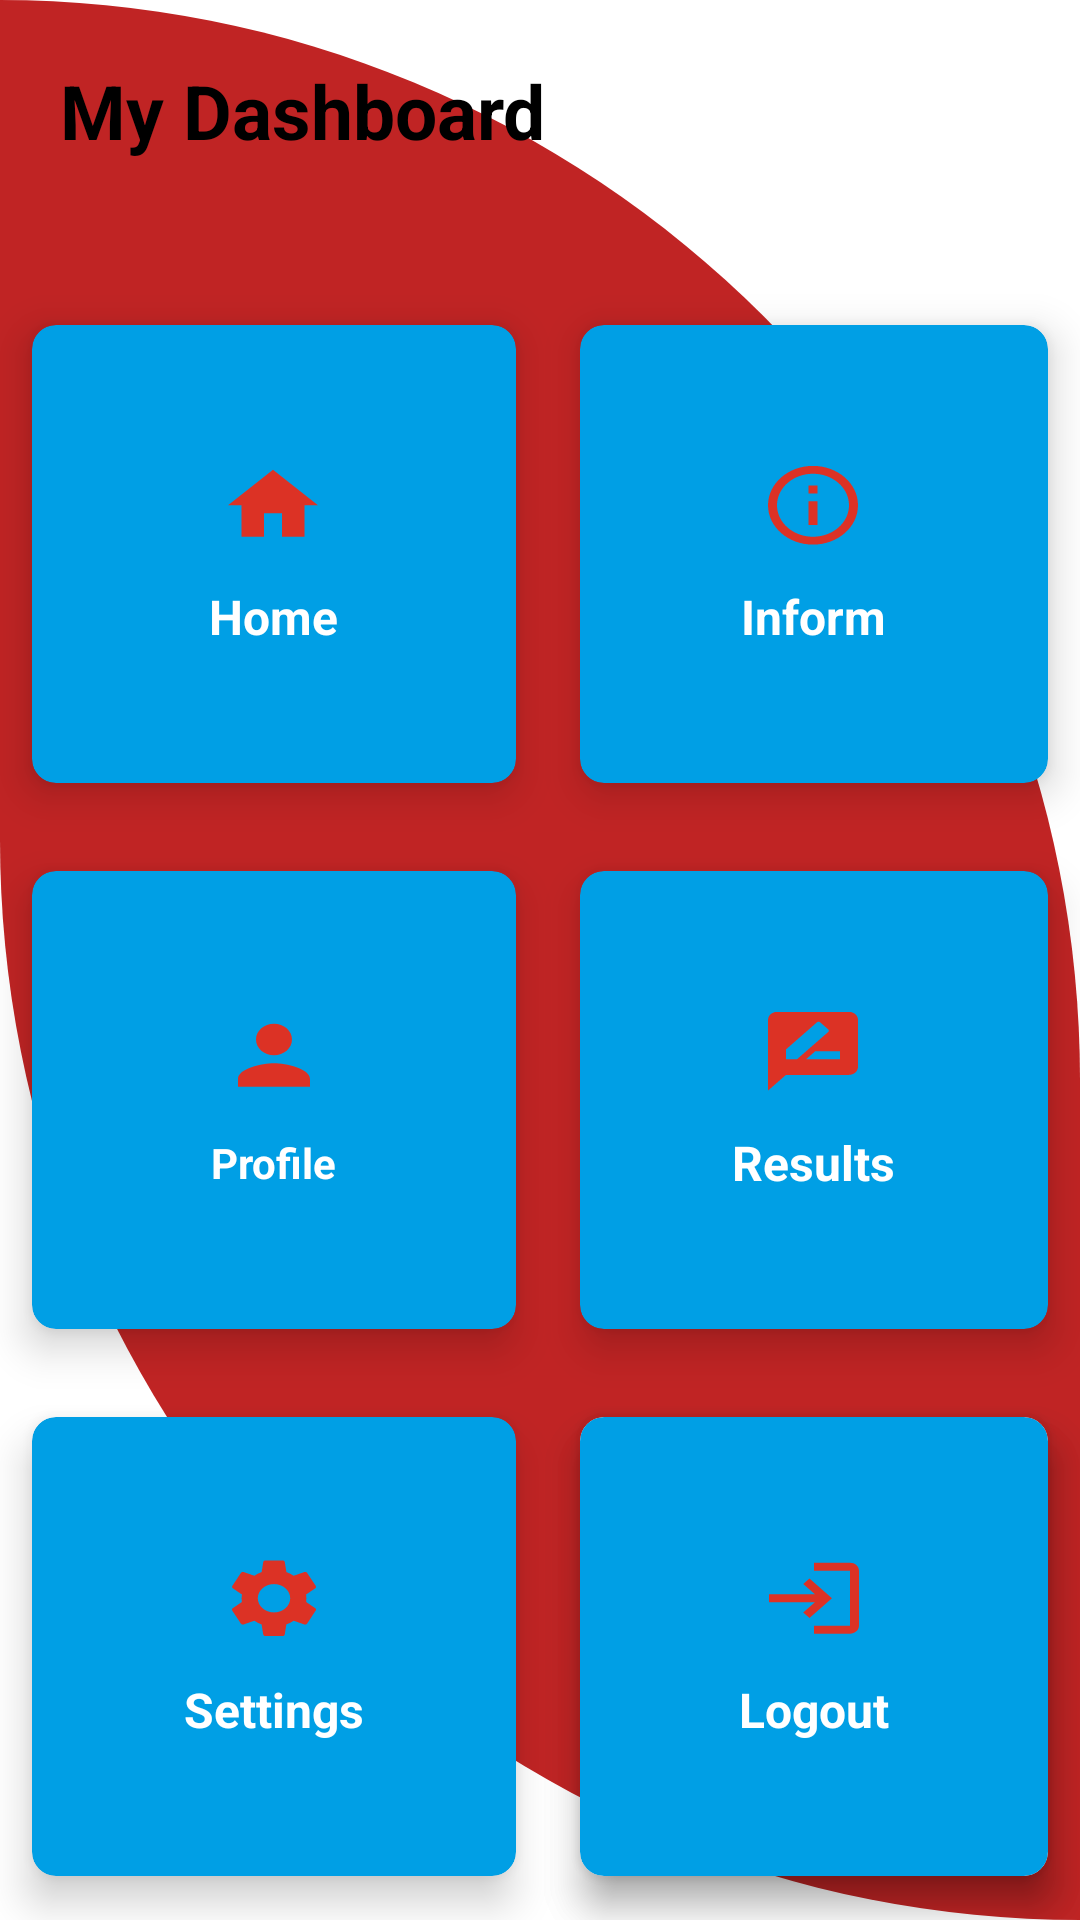

Where to tap for icons on this 1080×1920 app screen, as point (x, y):
person: point (274, 1055)
rate review: point (813, 1051)
